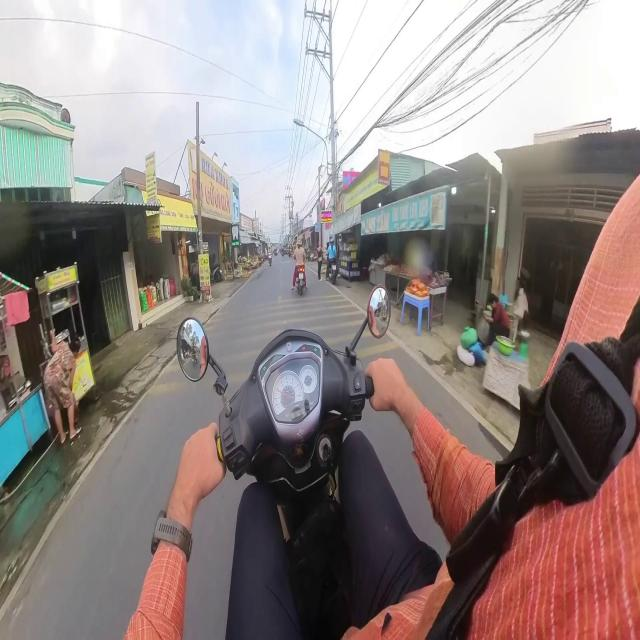motorcycle: (178, 286, 390, 638), (296, 265, 306, 296), (327, 259, 337, 284), (269, 255, 272, 266)
